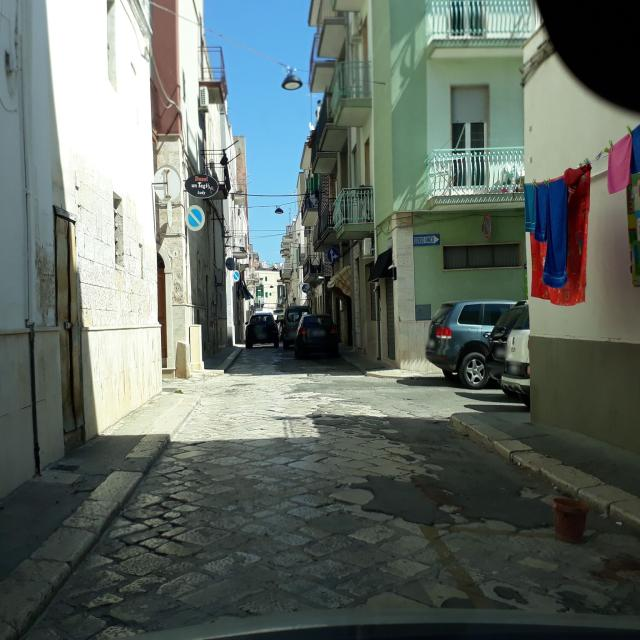forb_stopping: (184, 200, 206, 232), (483, 212, 490, 240)
